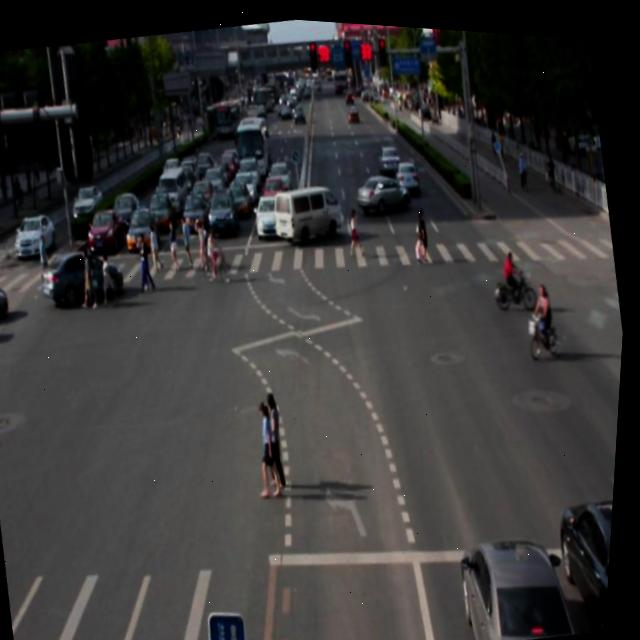car: (455, 519, 584, 640), (554, 478, 619, 628), (40, 237, 132, 310)
